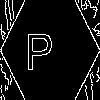P: (25, 25, 53, 70)
